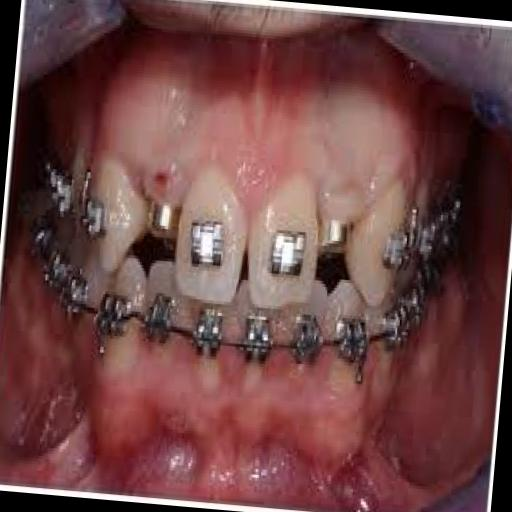correct_brace: (260, 213, 310, 296), (186, 209, 232, 278), (382, 212, 416, 286), (78, 186, 112, 242)
incorrect_brace: (332, 158, 416, 318), (76, 150, 156, 277)
